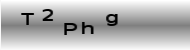2: (40, 9, 55, 22)
P: (61, 22, 78, 37)
T: (19, 12, 36, 25)
g: (105, 13, 119, 27)
h: (81, 21, 95, 35)
